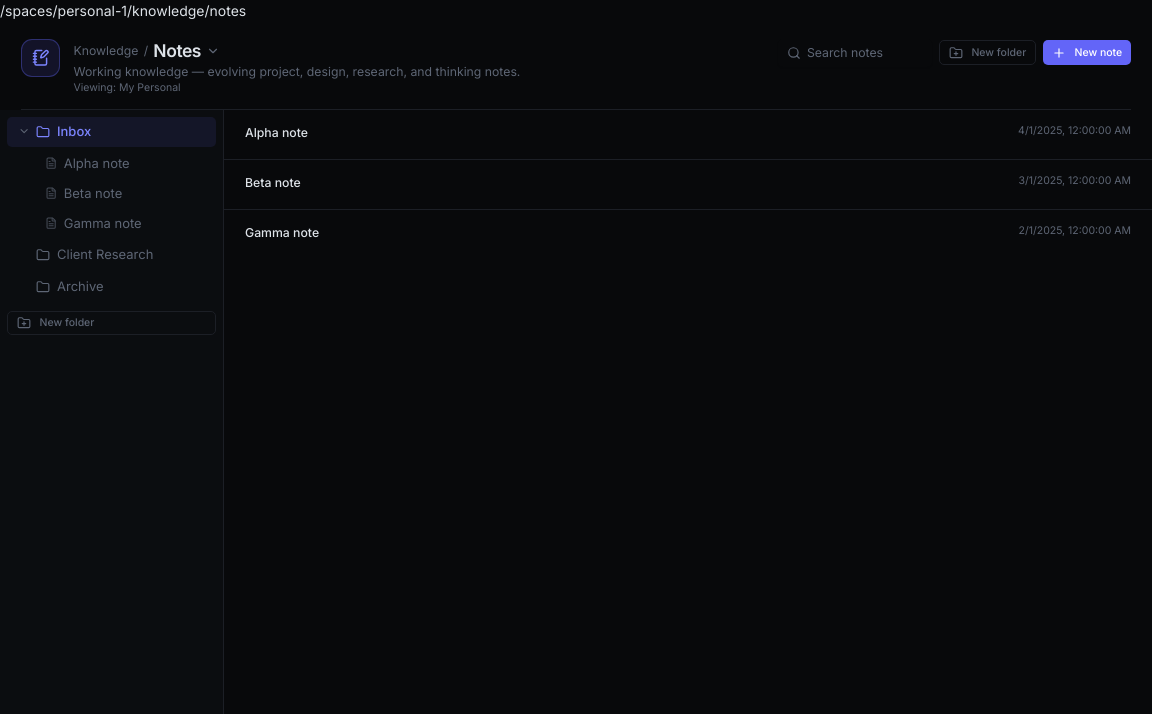
Knowledge routing › bulk deletes a Shift-selected note range from the tree
This screenshot has width=1152, height=714.
Click the button "Alpha note": x=112, y=163 [10,150,212,176]
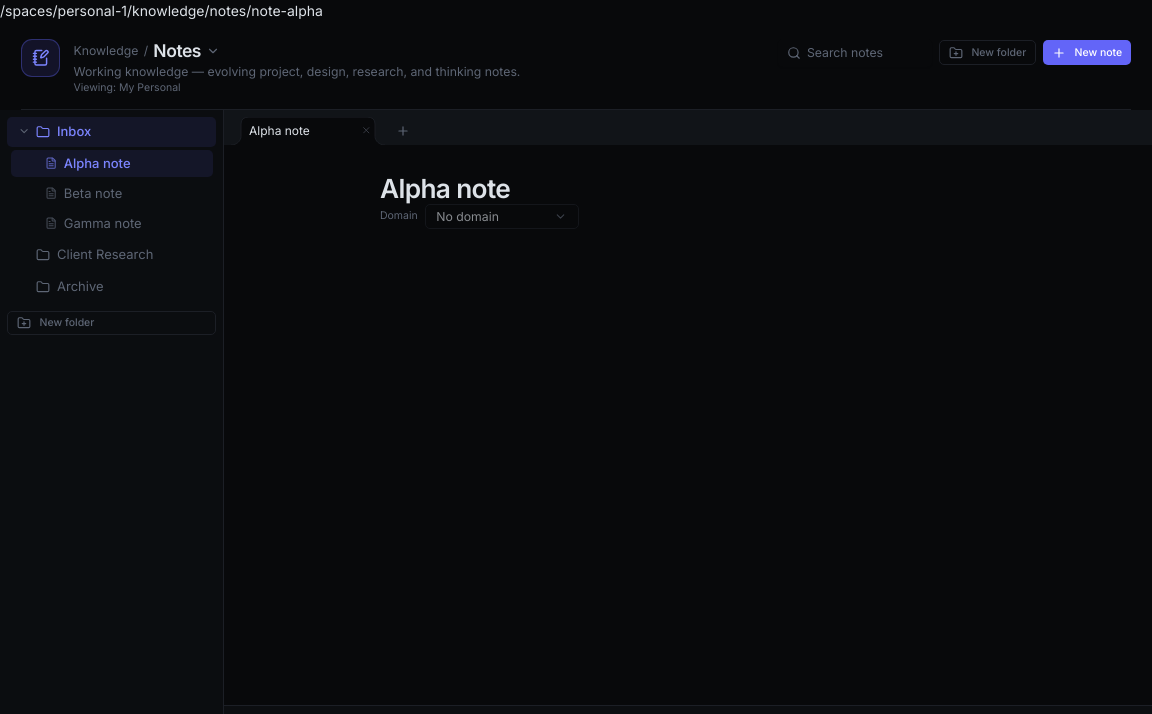
Result: the text with test id "loc" reads "/spaces/personal-1/knowledge/notes/note-alpha" at [0,2,323,19]
Click the button "Gamma note": x=112, y=223 [10,210,212,236]
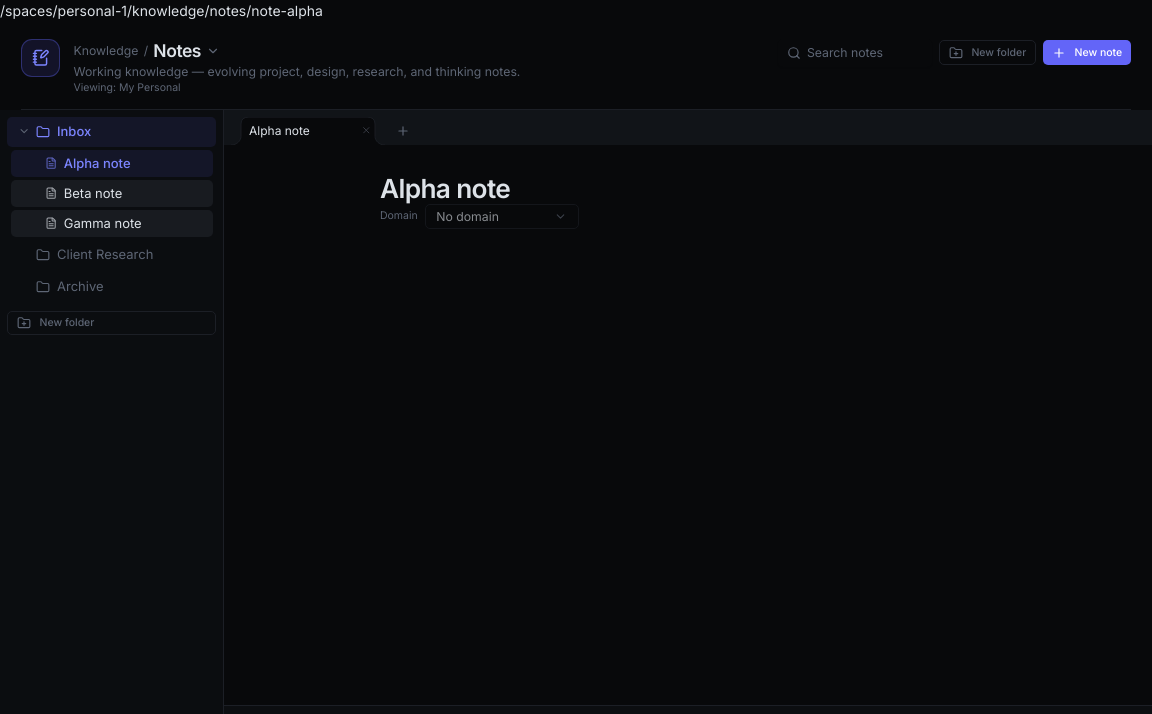
Press Delete in the button "Gamma note", box [10,210,212,236]
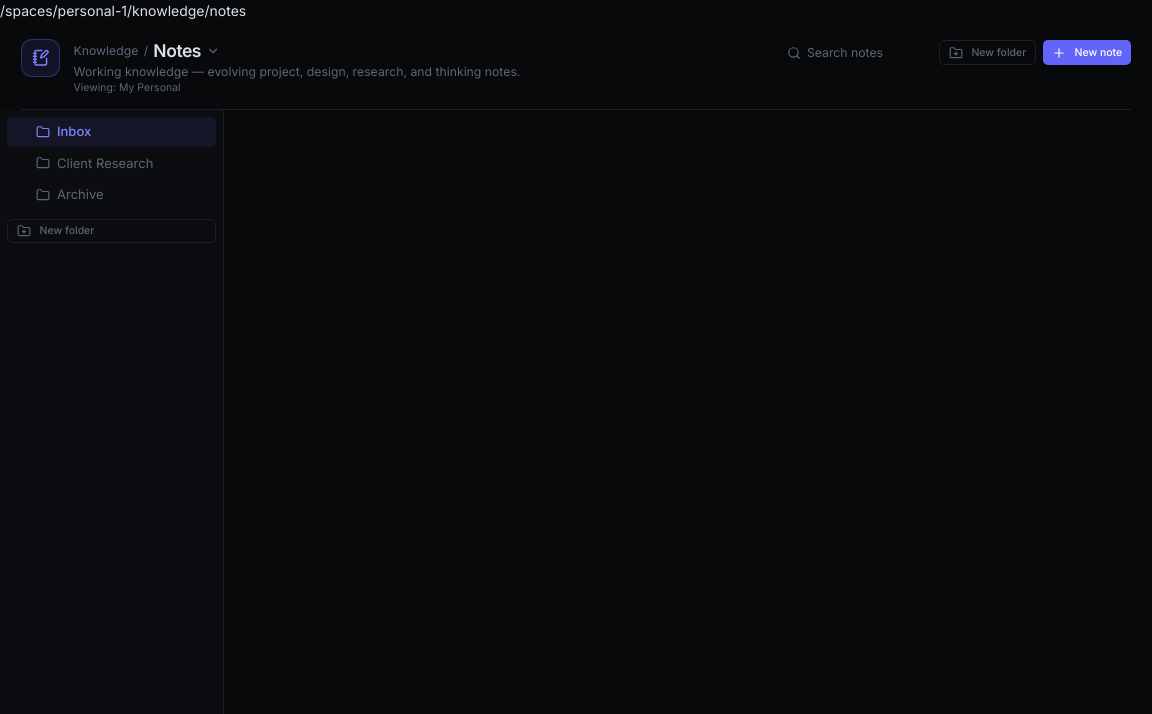
Expected: the text with test id "loc" reads "/spaces/personal-1/knowledge/notes", [0,2,246,19]
Result: the button "Alpha note" is gone
